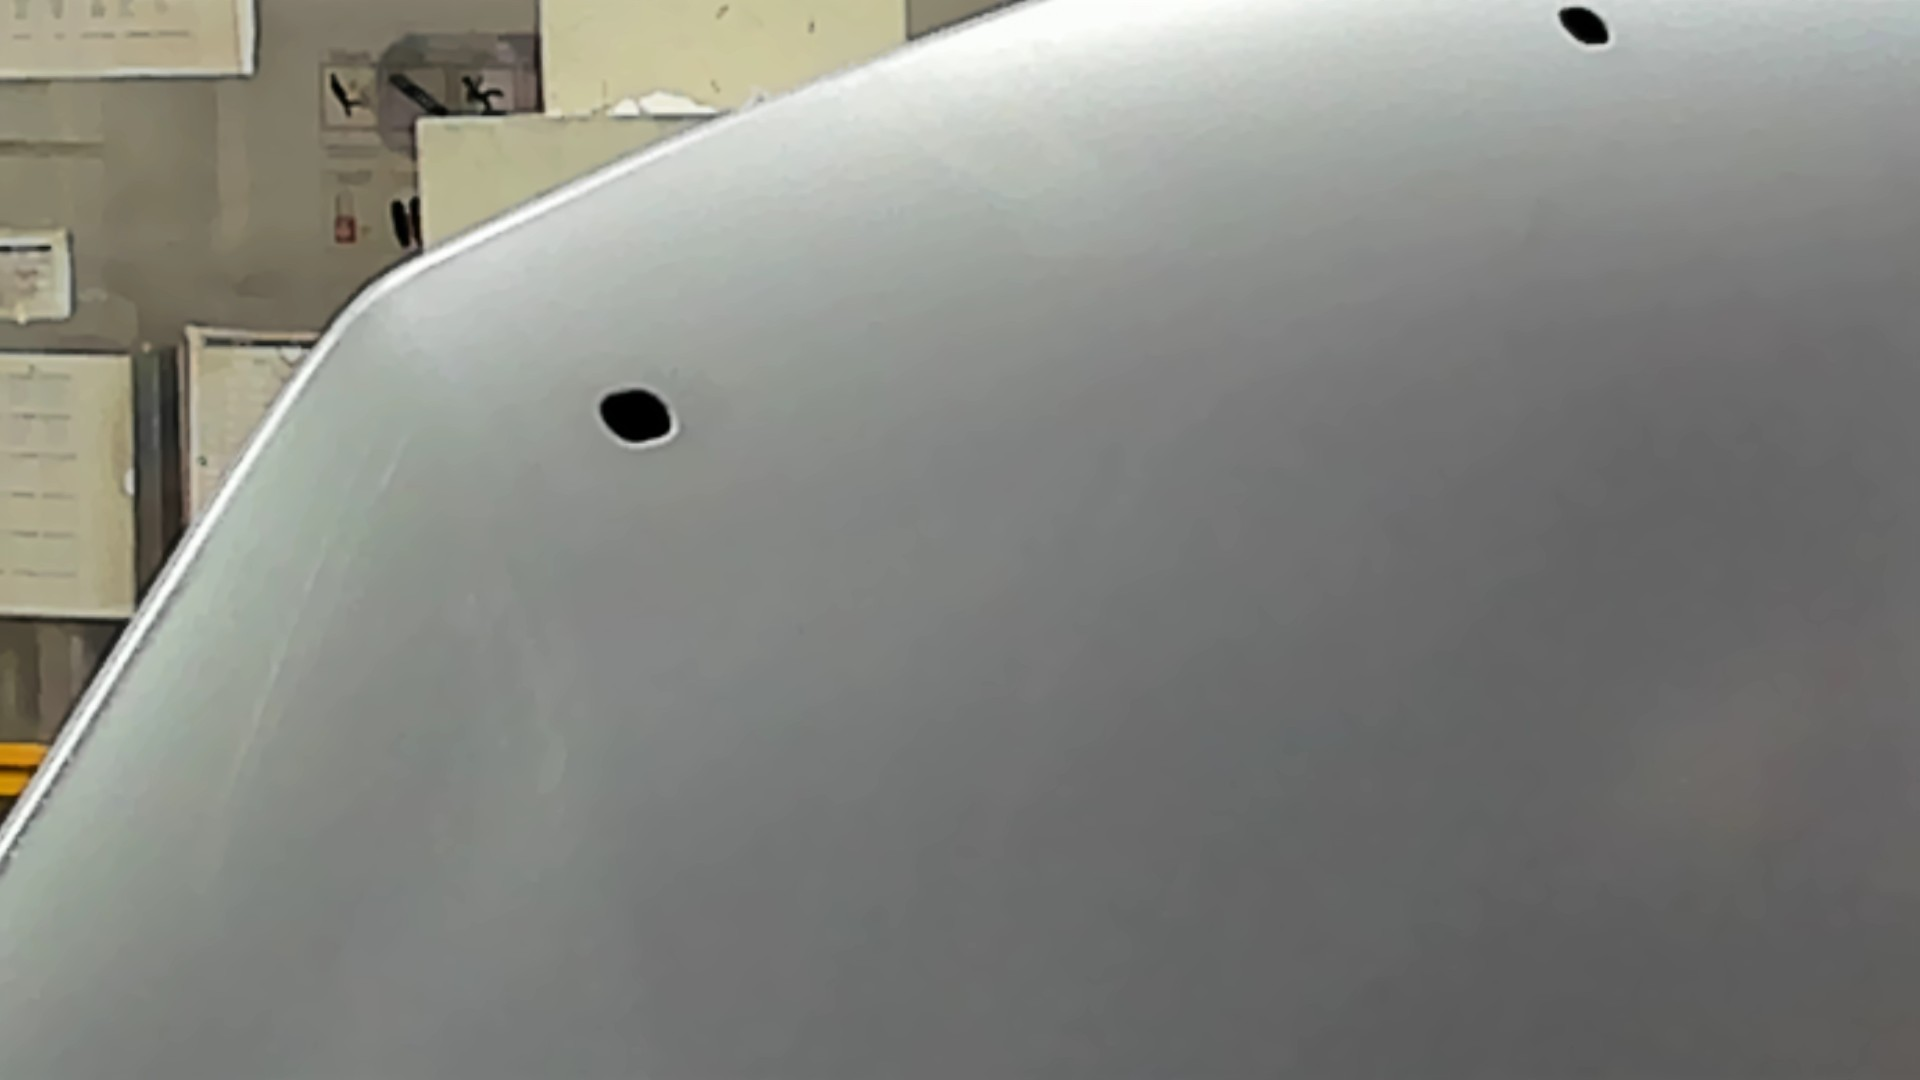amorfo: (587, 381, 686, 451), (1553, 7, 1615, 55)
